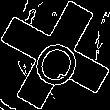O_NE: (24, 22, 86, 88)
